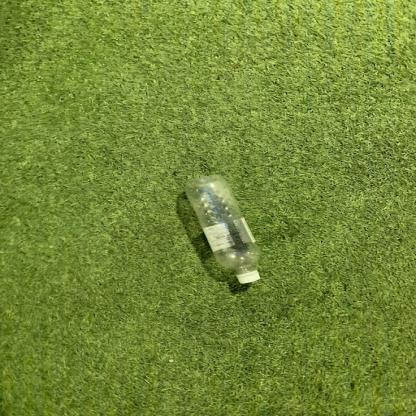trash: (184, 175, 266, 285)
